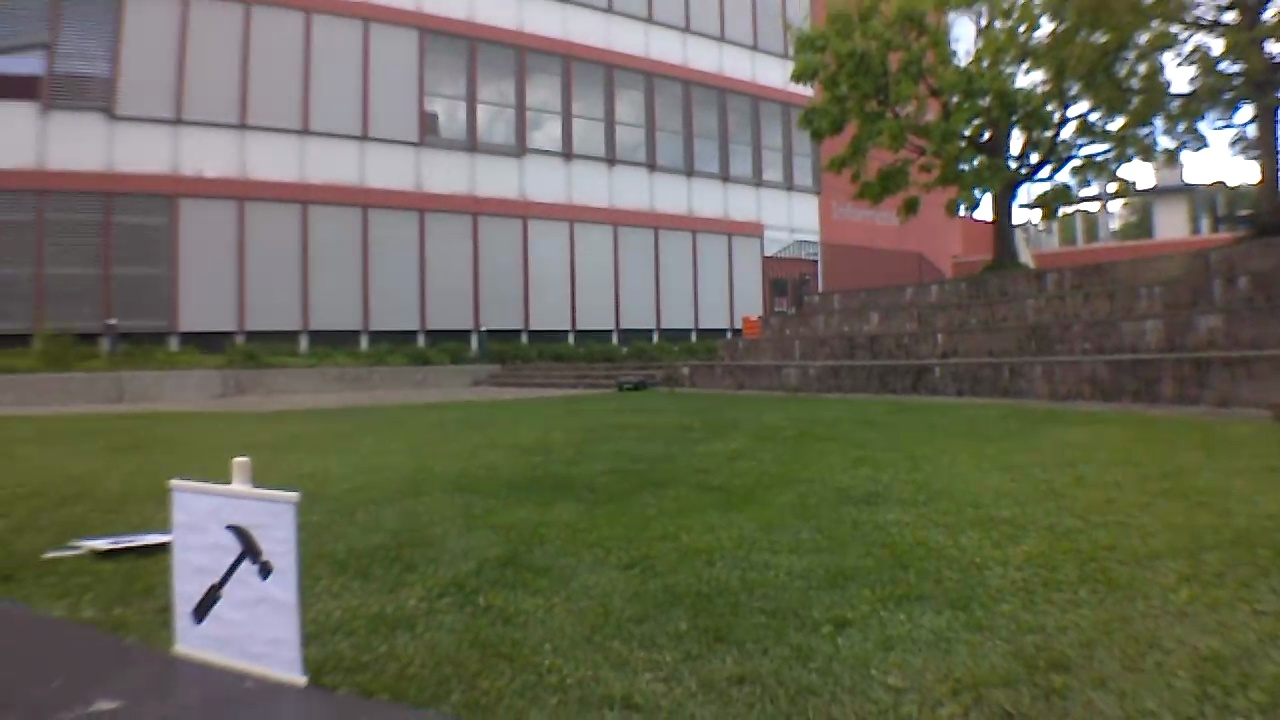hammer: (181, 510, 283, 635)
